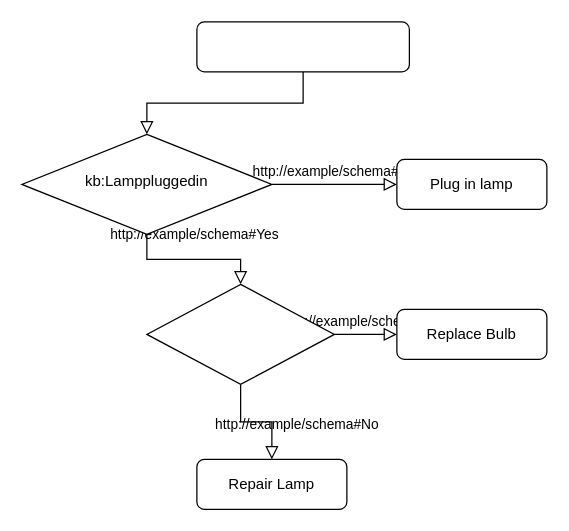
Image size: 569x531. Some labels were removed from this diagram. Here are the shapes that lost their labels. From the top down, the box of each, then its label:
(196, 21, 409, 72): kb:Lampdoesntwork
(146, 283, 334, 384): kb:Bulbburnedout
